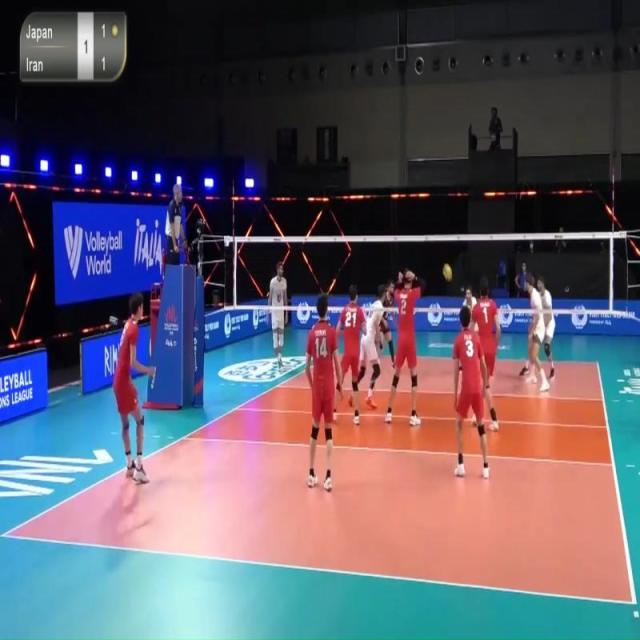volleyball: (442, 263, 454, 283)
